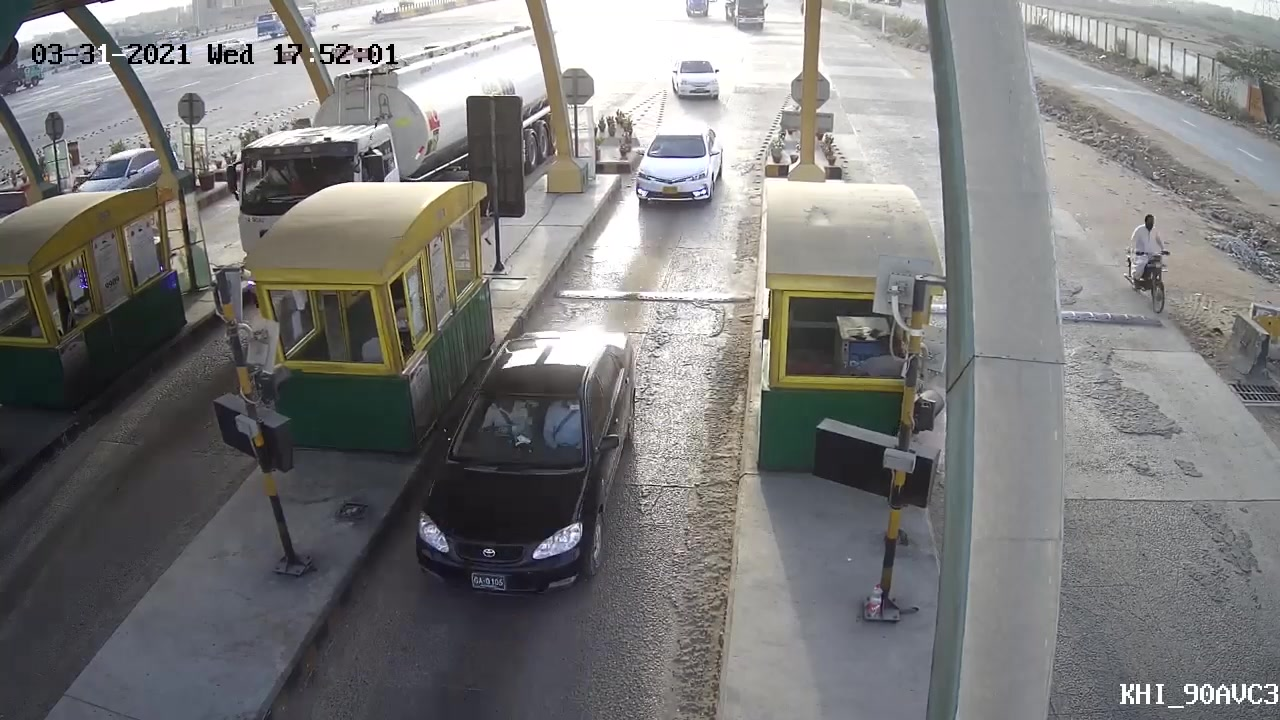F1: (416, 317, 635, 611), (627, 124, 730, 214)
